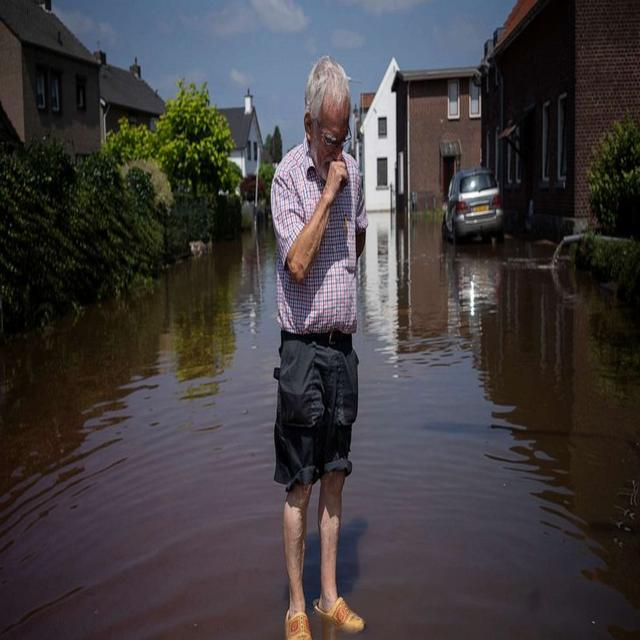Person-RiskLevel2: (238, 45, 431, 640)
